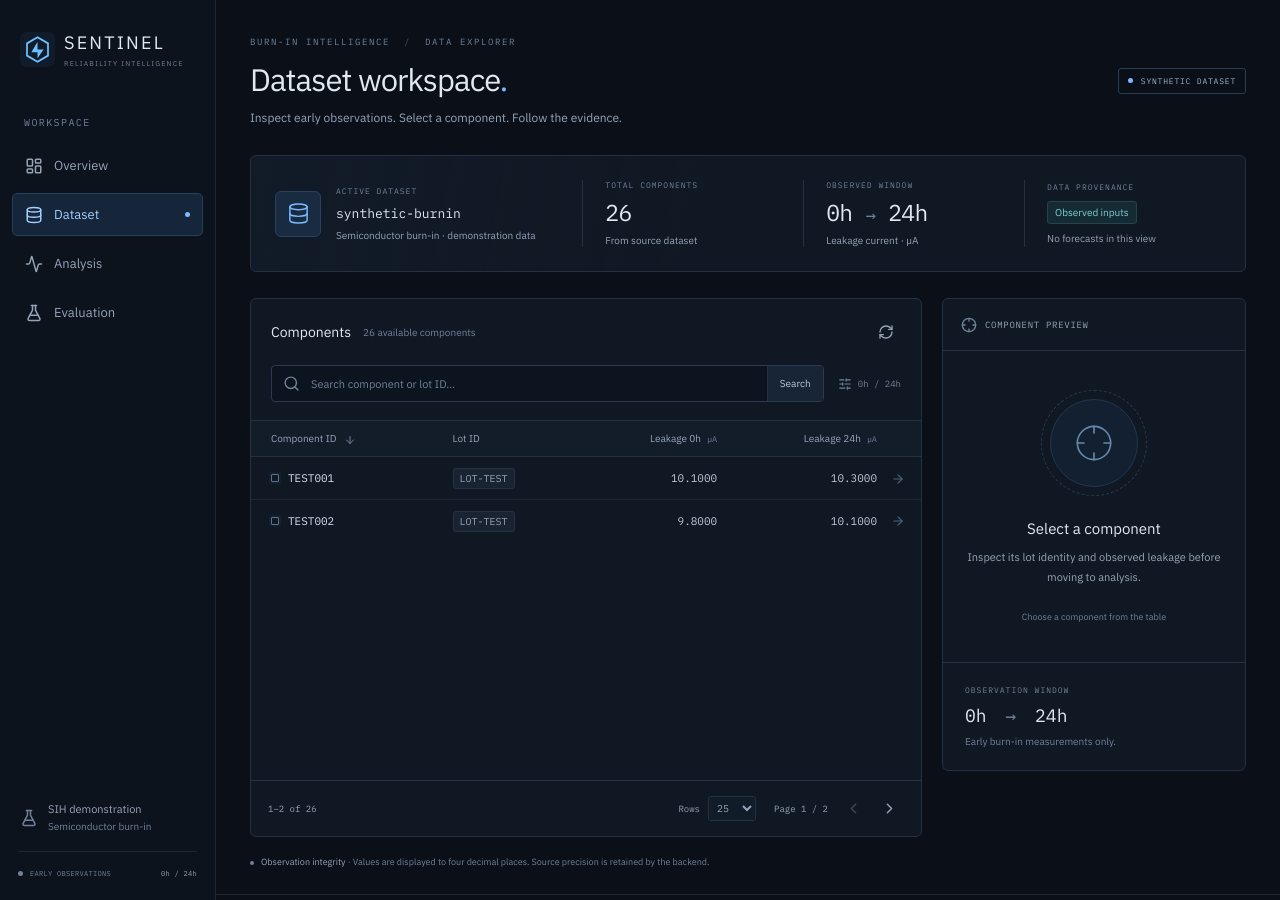
Scenario: Dataset workspace › requests search and pagination from the API and preserves the unfiltered count
The width and height of the screenshot is (1280, 900).
(page scrolled)
Expected: the button "TEST001" is shown, [271,463,334,493]
Click the button named "Next page". click: (889,809)
box: [874,794,904,824]
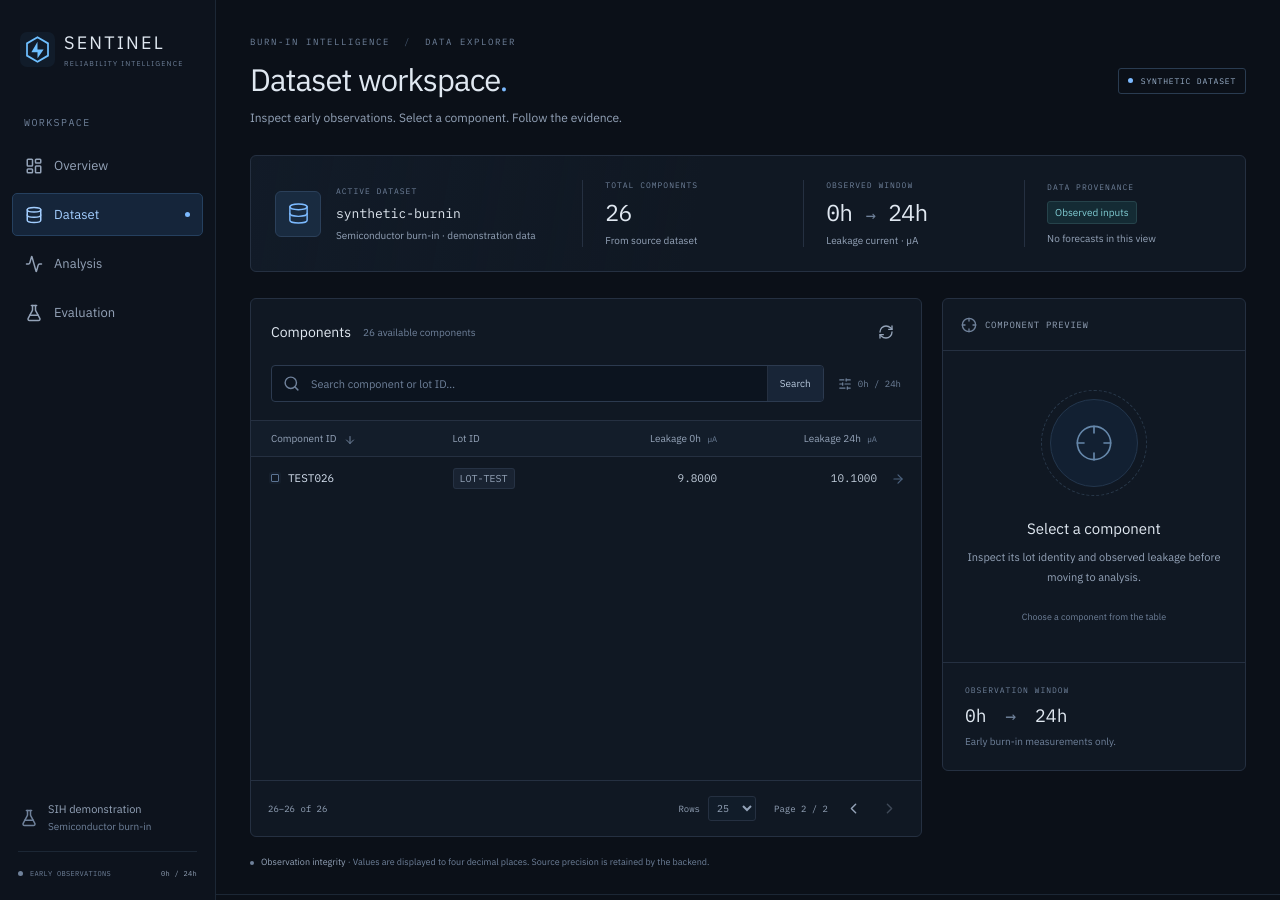
Expected: the button "TEST026" is shown, [271,464,334,494]
Type "TEST0030" into the field labelled "Search component or lot ID". click: (533,384)
box: [309,366,758,402]
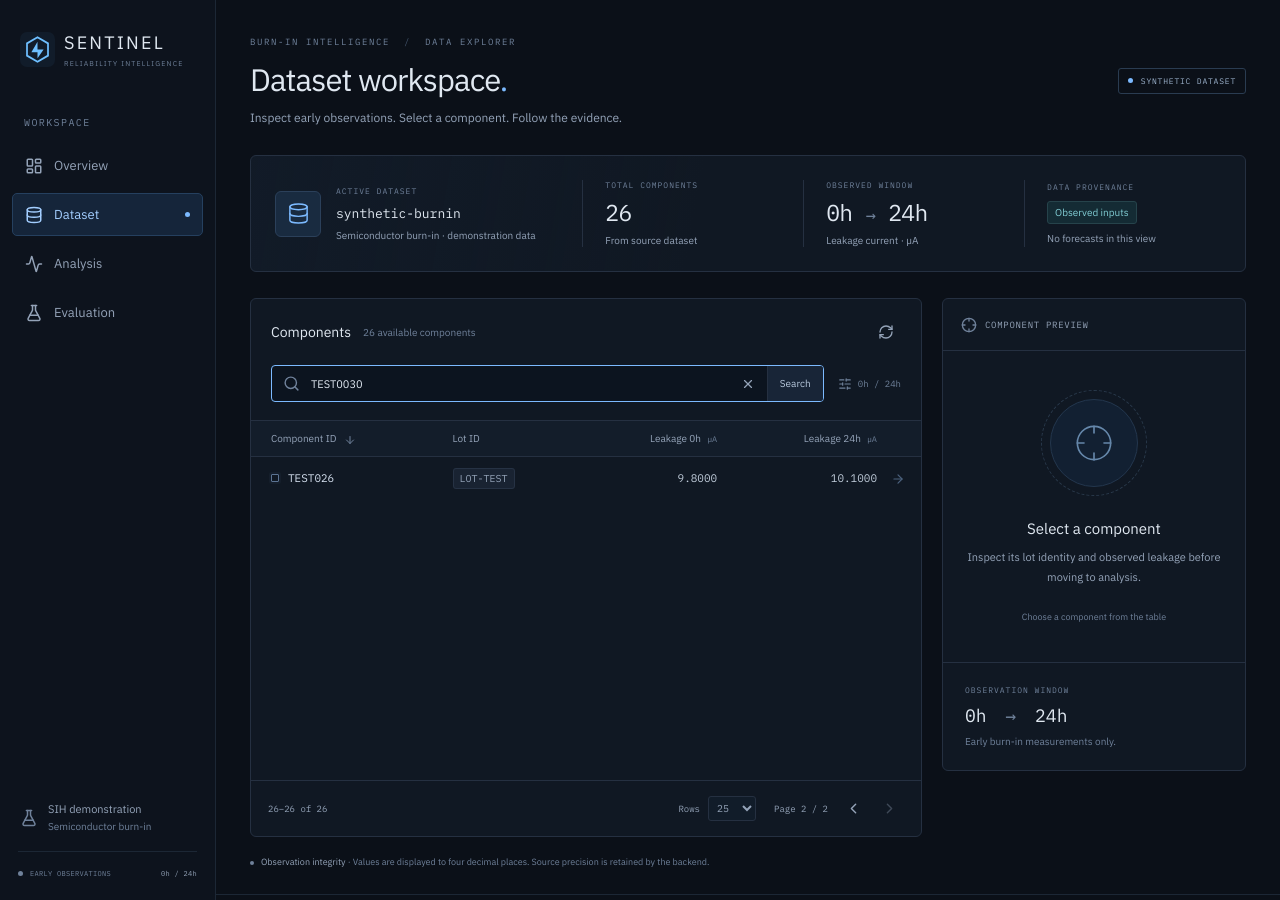
Click the button "Search". click: (795,384)
box: [767,366,823,402]
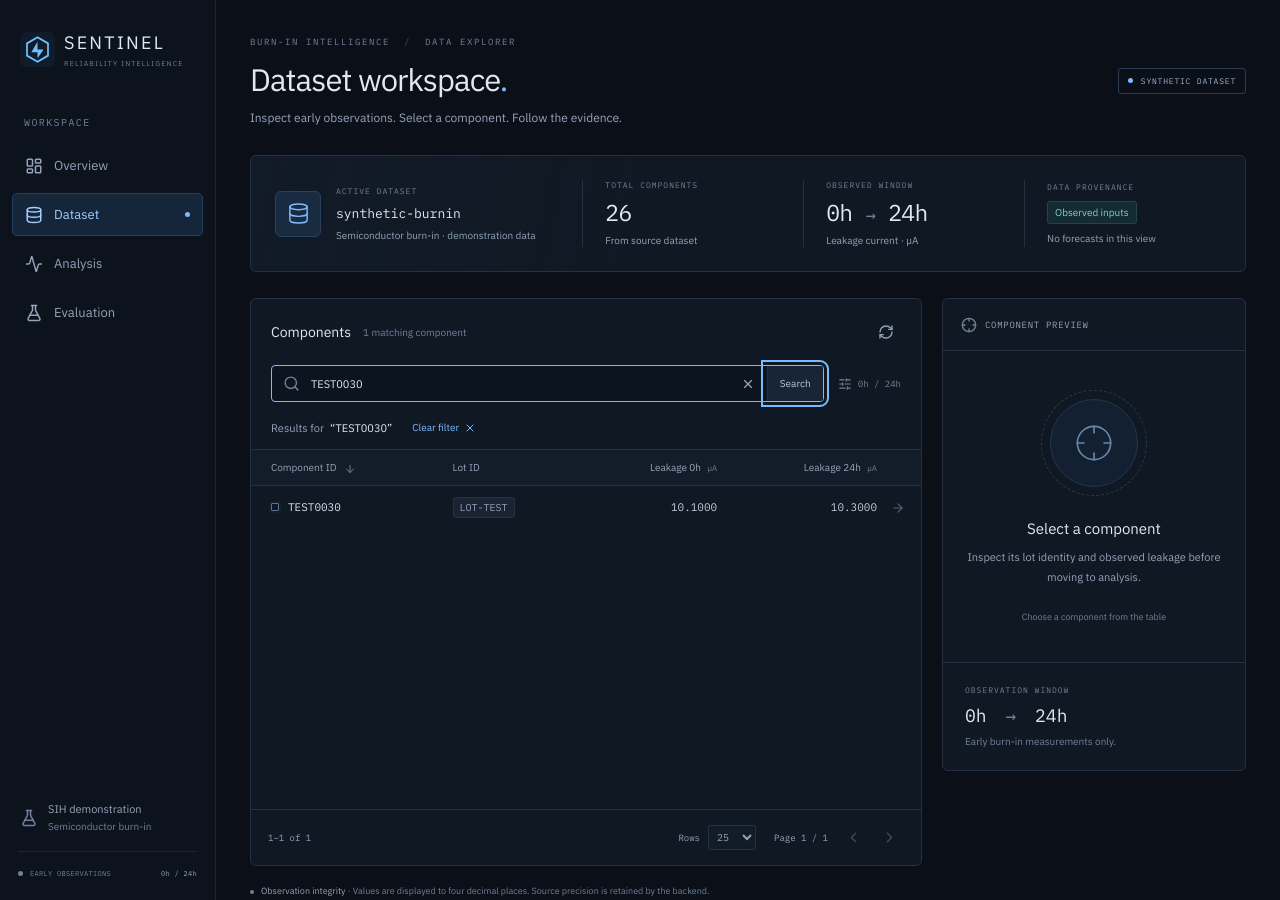
Expected: the button named "Next page" is disabled, [874,823,904,853]
Expected: the button "TEST0030" is shown, [271,492,341,522]
Expected: the text "1 matching component" is shown, [363,326,466,339]
